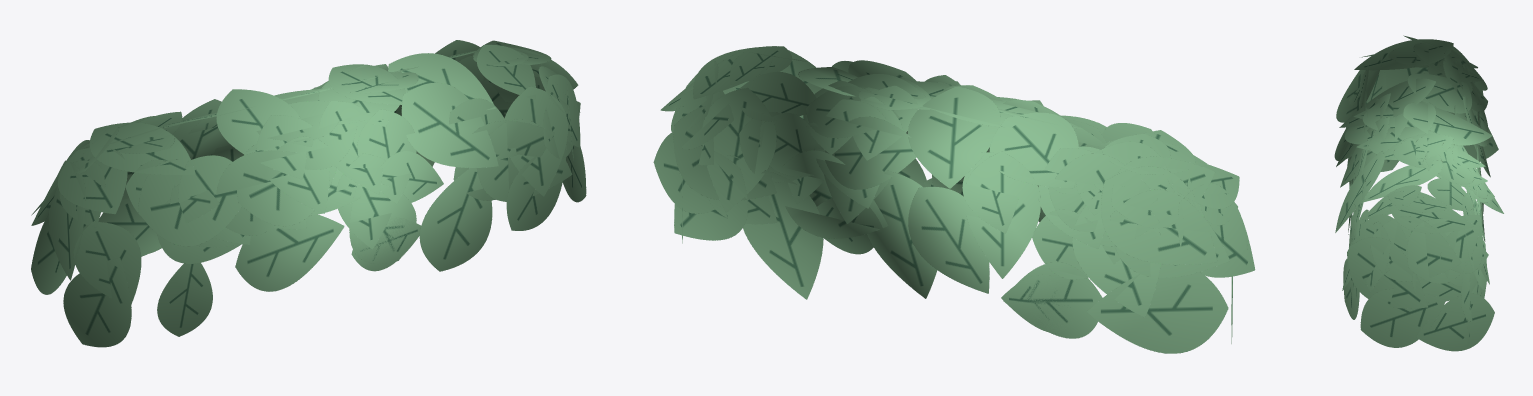
The model's file is bush.0227d8b878cf.glb.
3 renders of one model, left to right at view 1: azimuth 30°, elevation 25°; view 2: azimuth 150°, elevation 25°; view 3: azimuth 270°, elevation 25°, orthographic. The views are drawn at different scales.
Parts seen in each view (by area): view 1: Bush_Small; view 2: Bush_Small; view 3: Bush_Small.
Part boxes in pixels (bbox=[...]): Bush_Small: bbox=[31, 40, 586, 347]; Bush_Small: bbox=[653, 46, 1255, 353]; Bush_Small: bbox=[1334, 35, 1503, 351].
Bounding box in the file's own units: 1.9 × 0.7784 × 0.7238.
Materials: 1 (1 with a texture image).
